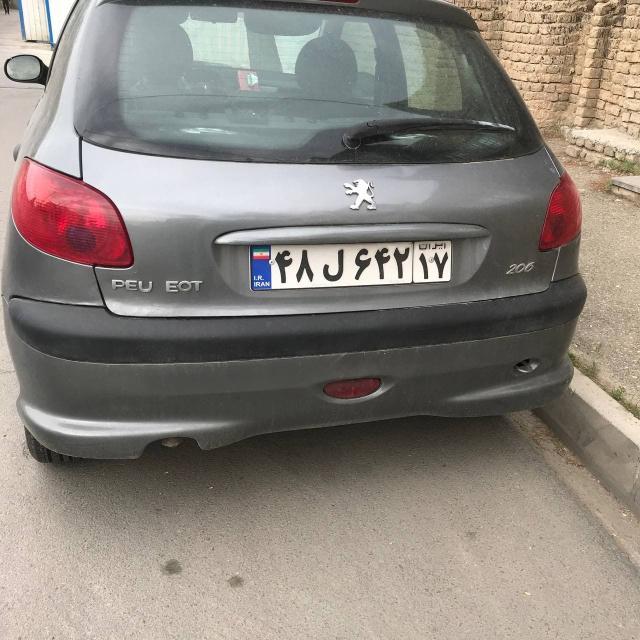Plates: (247, 234, 453, 292)
